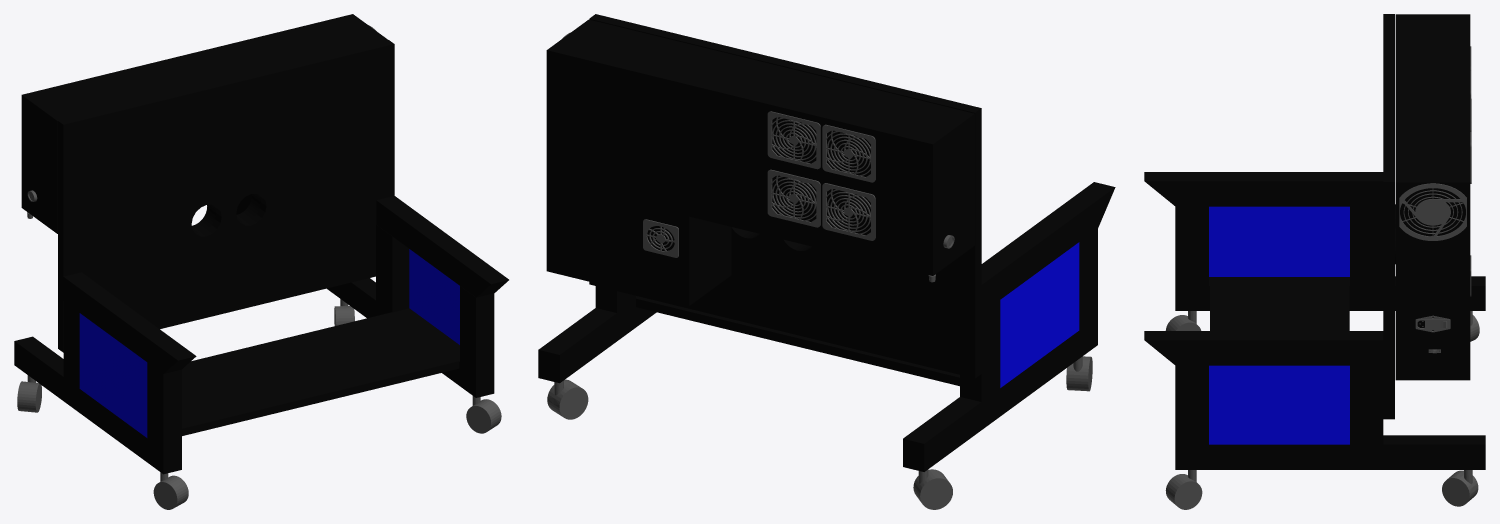
Rendered from plsSolid.obj.
3 renders of one model, left to right at view 1: azimuth 30°, elevation 25°; view 2: azimuth 150°, elevation 25°; view 3: azimuth 270°, elevation 25°, orthographic. The views are drawn at different scales.
Parts seen in each view (by area): view 1: object_3, object_6, object_2, object_1, object_13, object_15, object_16; view 2: object_6, object_3, object_2, object_10, object_11, object_9, object_8, object_16, object_14, object_12, object_15; view 3: object_3, object_6, object_1, object_2, object_7, object_13, object_14, object_15, 131_0472_S0_PLS3___PLS4_Power_Module_Assy_1_352_0007_0_Power_Ent.
Boxes of the visible parts, x1,y1,x2,y2 form: object_3: (14, 40, 508, 474); object_6: (21, 14, 388, 233); object_2: (79, 313, 147, 437); object_1: (409, 249, 459, 344); object_13: (466, 396, 501, 433); object_15: (153, 472, 188, 509); object_16: (17, 375, 41, 412); object_6: (546, 19, 974, 305); object_3: (538, 14, 1115, 471); object_2: (1000, 242, 1079, 387); object_10: (767, 169, 820, 227); object_11: (822, 183, 875, 240); object_9: (767, 111, 820, 169); object_8: (822, 124, 875, 182); object_16: (913, 469, 952, 509); object_14: (547, 379, 588, 419); object_12: (643, 219, 678, 257); object_15: (1066, 356, 1092, 391); object_3: (1144, 14, 1485, 469); object_6: (1395, 14, 1470, 380); object_1: (1209, 365, 1349, 444); object_2: (1209, 206, 1349, 276); object_7: (1399, 183, 1466, 240); object_13: (1165, 470, 1202, 509); object_14: (1442, 470, 1478, 506); object_15: (1165, 311, 1201, 330); 131_0472_S0_PLS3___PLS4_Power_Module_Assy_1_352_0007_0_Power_Ent: (1415, 315, 1450, 332).
Bounding box in the file's own units: 46.3 × 39.86 × 37.7.
